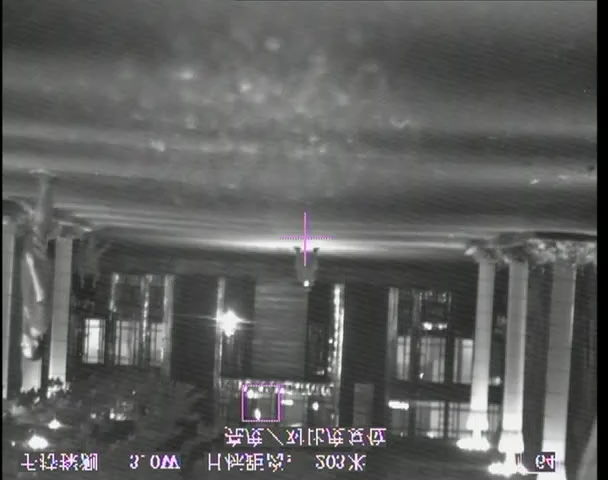my: (302, 279, 310, 287)
